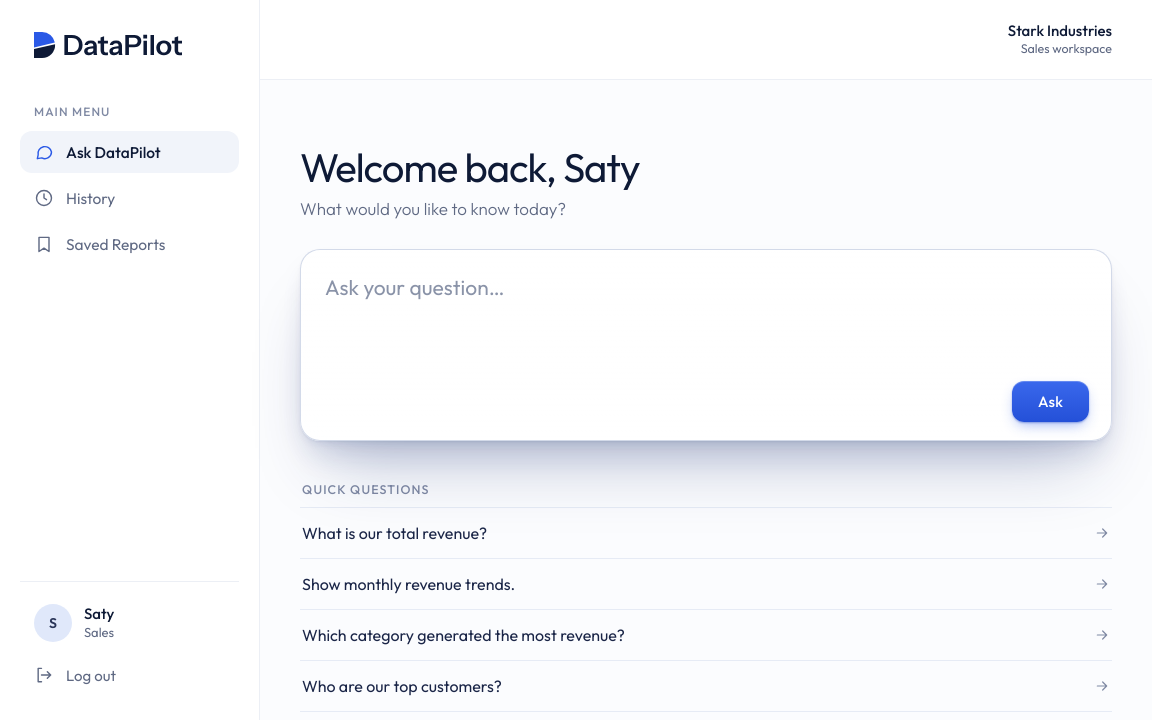
Test case: the list › describes each row only with what the list returns
Click the button "History" at (130, 198), box [20,177,239,219]
(page scrolled)
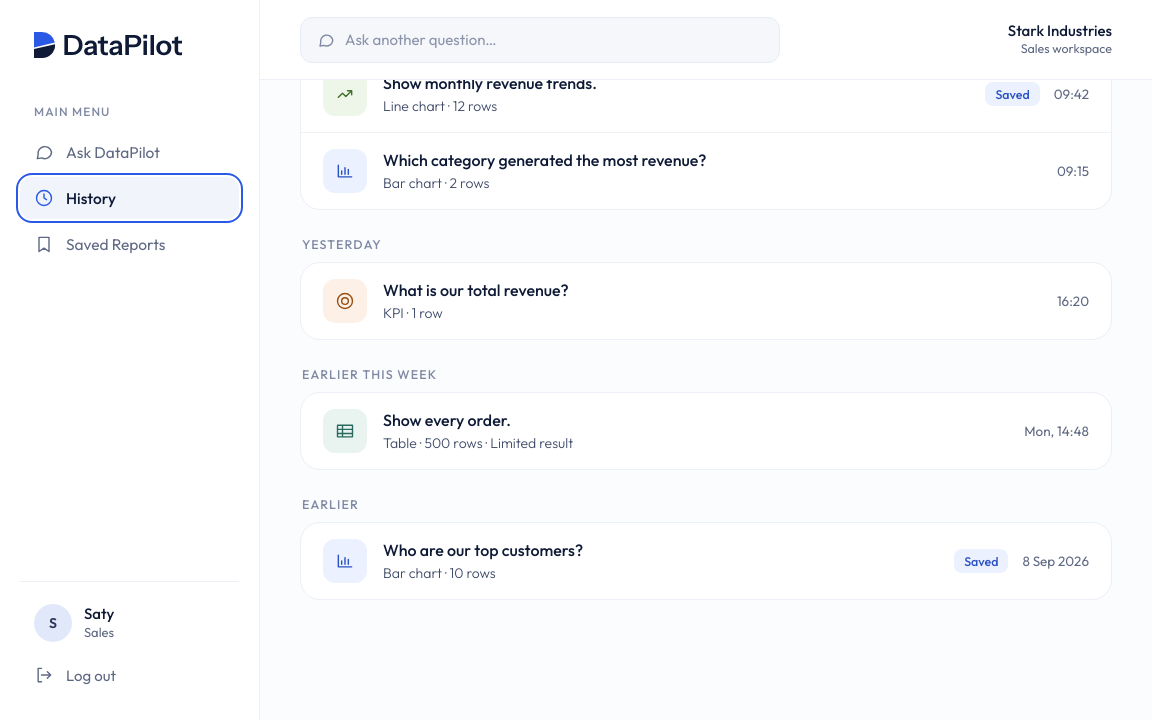
Expected: the button "Show monthly revenue trends." shows "Line chart · 12 rows", [301,56,1111,133]
